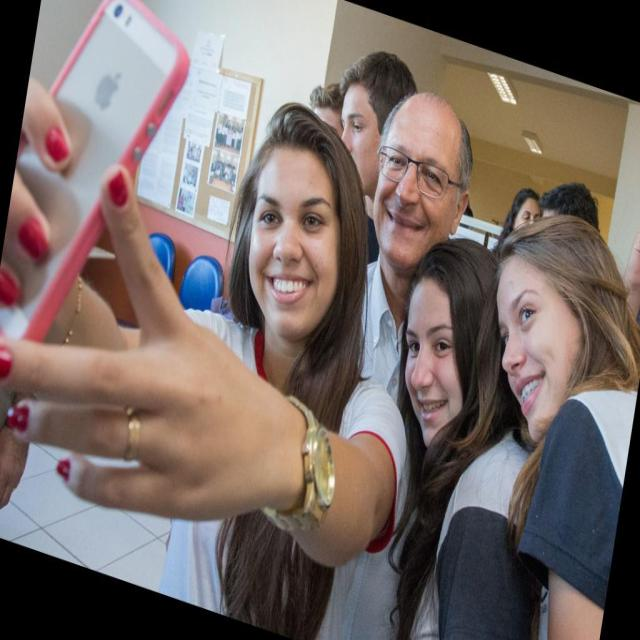phone: (23, 0, 188, 317)
